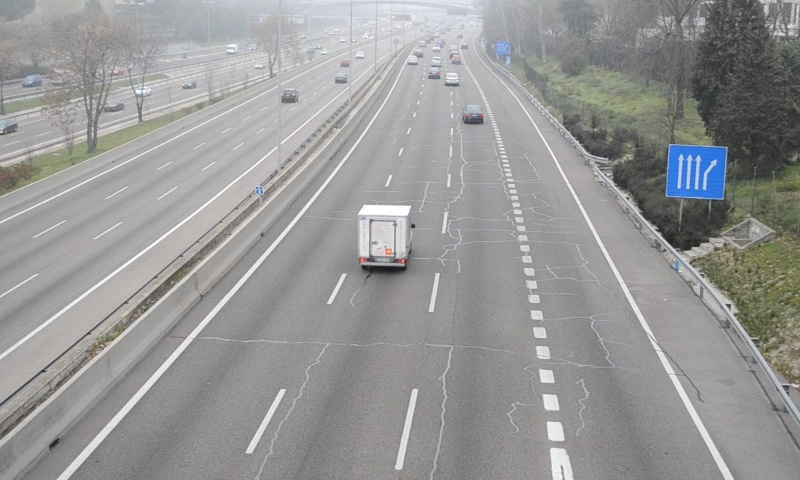car: (461, 103, 485, 125)
small-truck: (358, 204, 414, 267)
